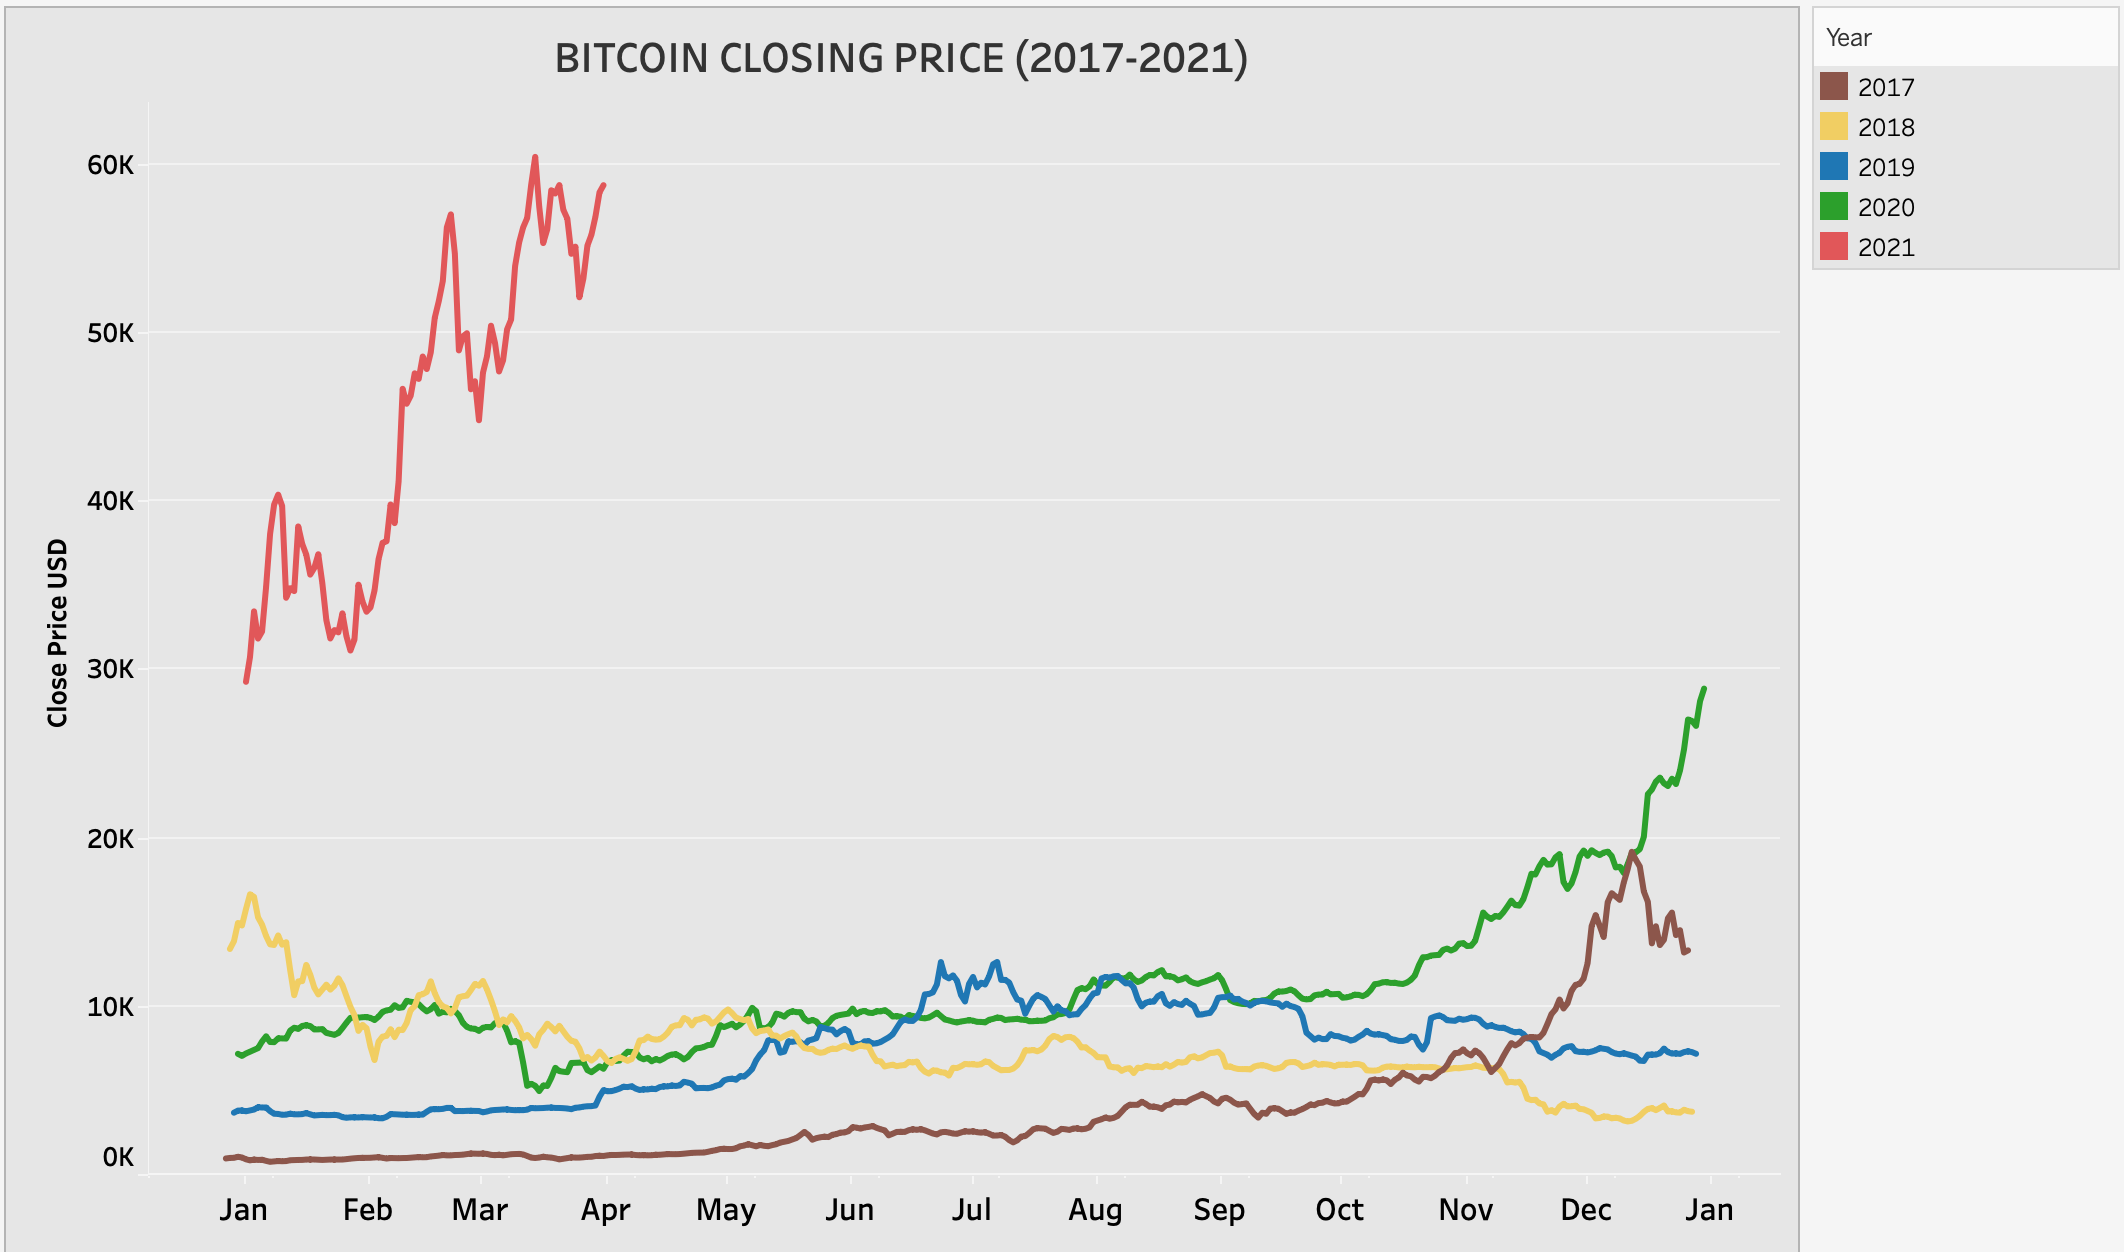

This screenshot's page, from the dashboard's own definition file:
{"tool":"tableau","page":{"name":"BITCOIN April 2021 Price Prediction","canvas":[1000,1000],"units":"permille","ordinal":1},"visuals":[{"type":"worksheet","title":"April 2021 Price","mark":"Automatic","rows":["ML Model Forecast","Real Bit Coin Price"],"cols":["Date"],"box":[4.7,8.8,897,507.7]},{"type":"legend","title":"April 2021 Price","param":"[federated.0sdf5vr1qne81j1c8s1it072gbc8].[:Measure Names]","box":[901.7,8.8,93.6,68.6]},{"type":"image","param":"Image/download (1).png","box":[4.7,516.6,897,474.6]}]}

Visuals, with their boxes on the dashboard's canvas, which has no fixed pixel size, in thousandths of its width and height (x1, y1, x2, y2). These are canvas units, not pixel positions in the 2124x1252 screenshot, which may show the page scaled, cropped or inside an application window:
"April 2021 Price" worksheet: [x1=5, y1=9, x2=902, y2=516]
"April 2021 Price" legend: [x1=902, y1=9, x2=995, y2=77]
image: [x1=5, y1=517, x2=902, y2=991]
